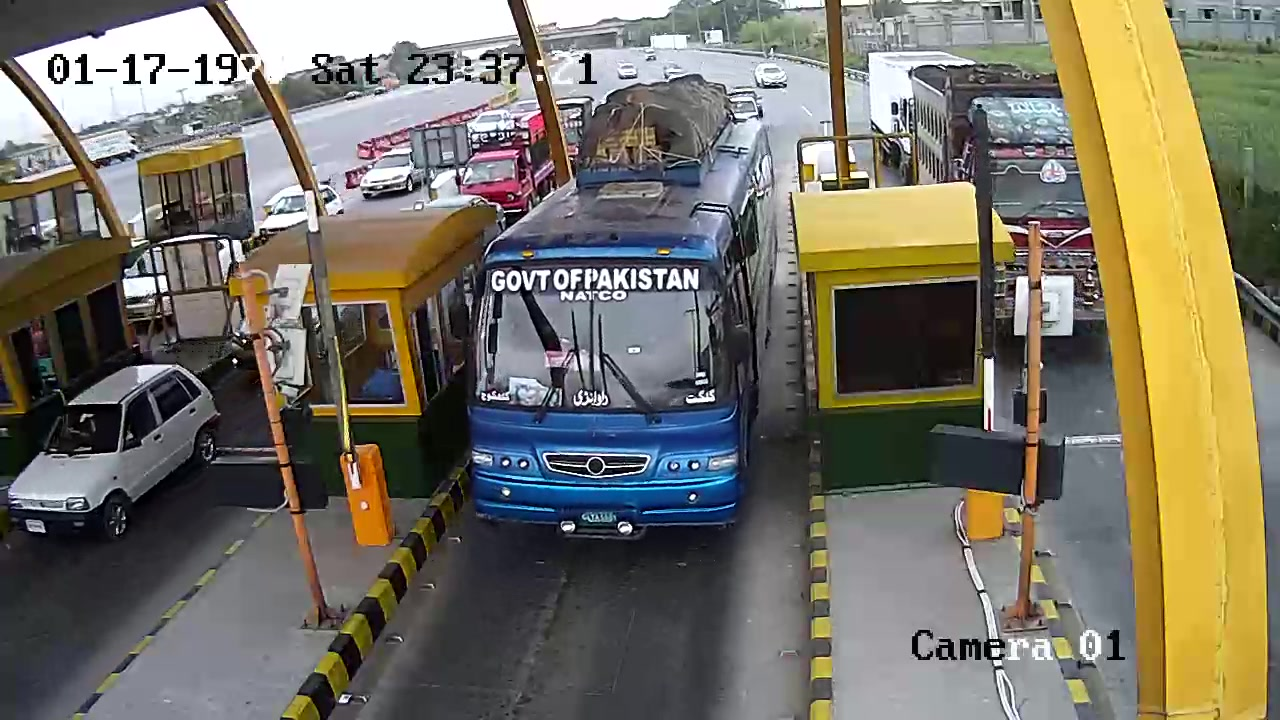F4: (462, 79, 800, 535)
